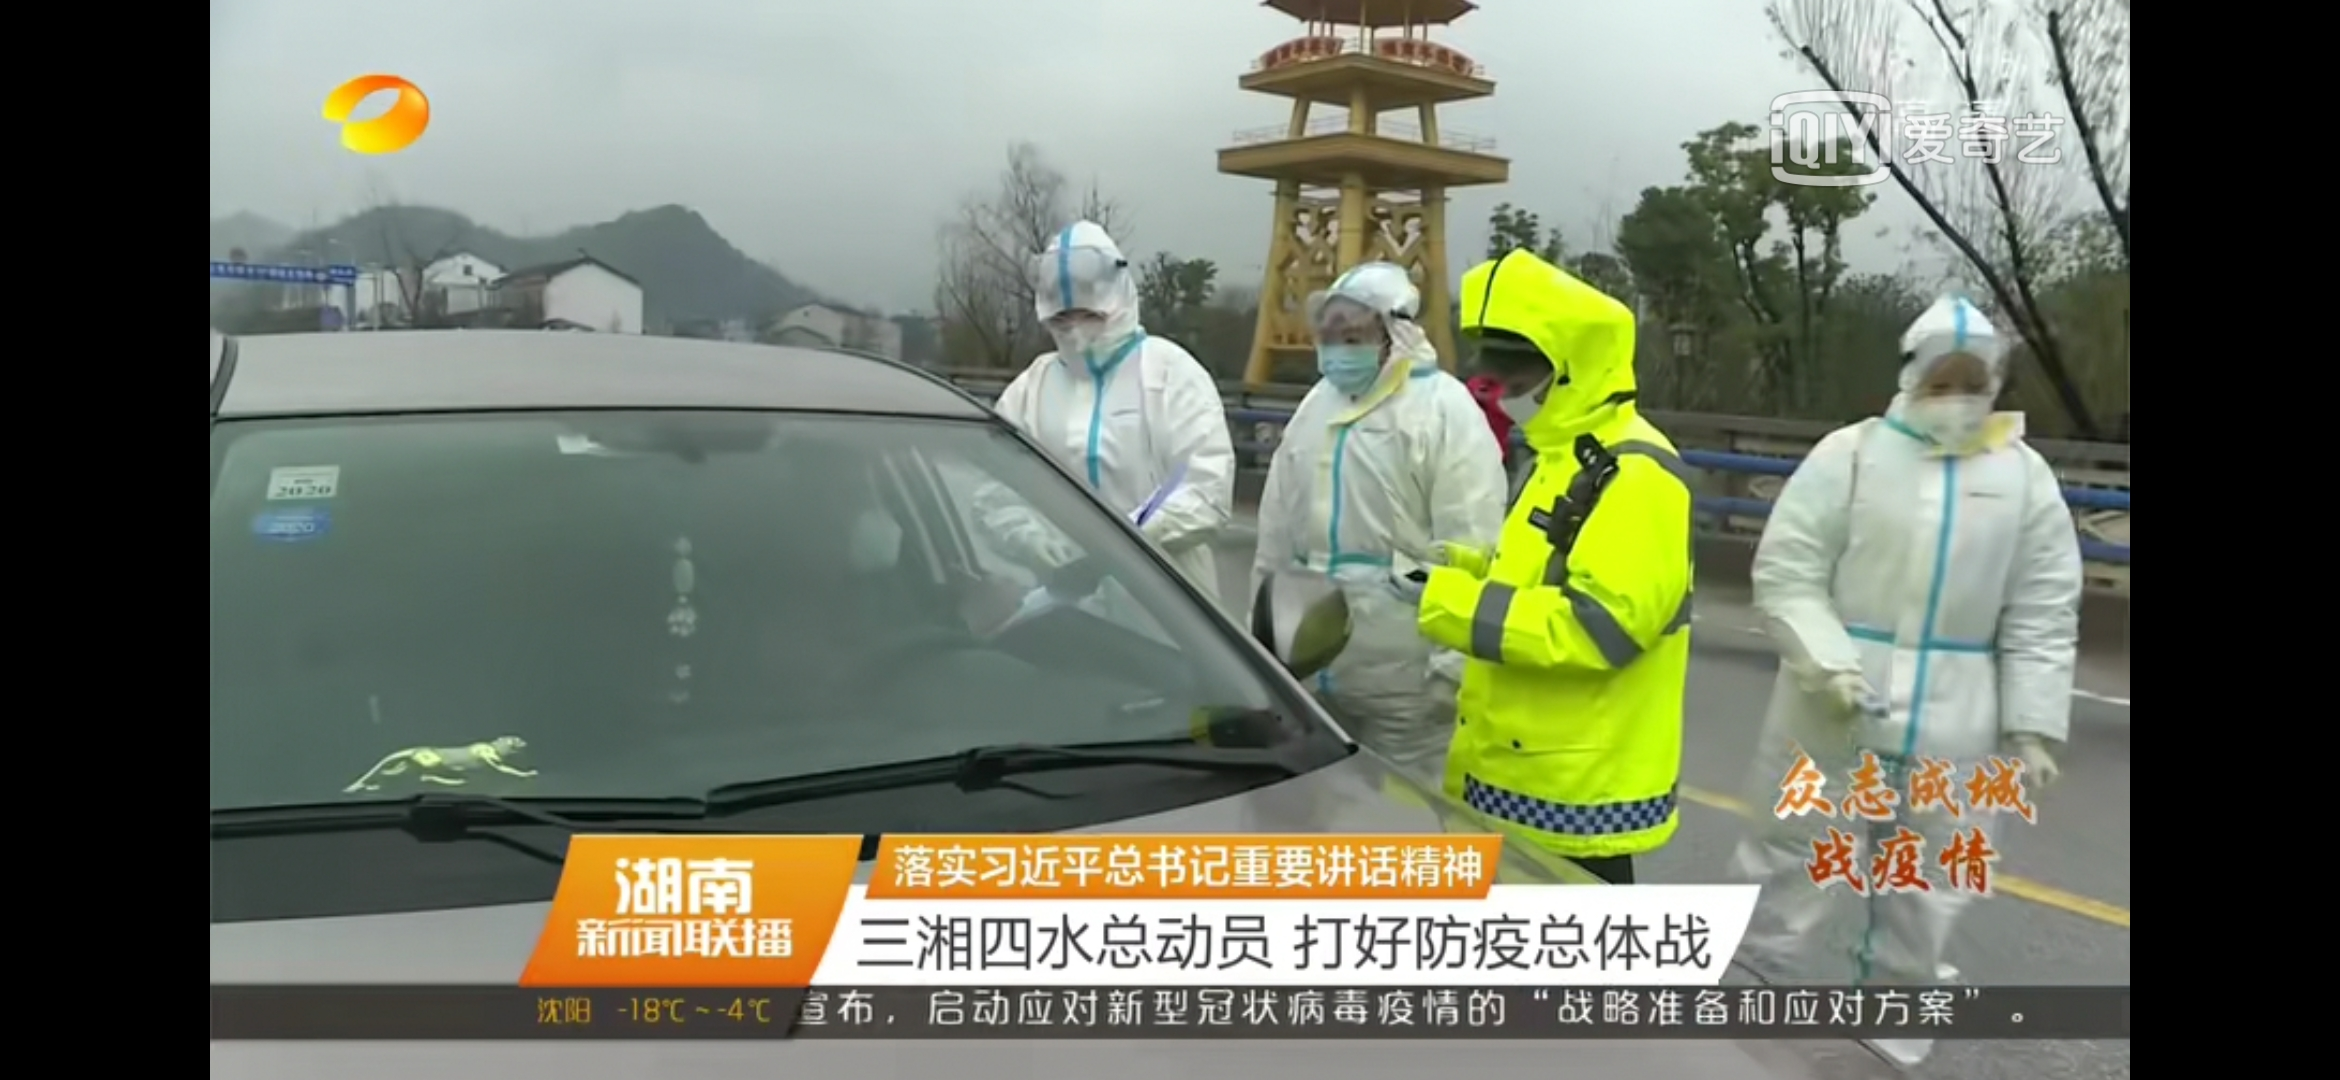correctlyWear: (792, 467, 901, 571), (1897, 346, 2000, 446), (1033, 283, 1130, 376), (1474, 324, 1555, 430), (1313, 307, 1392, 398)
